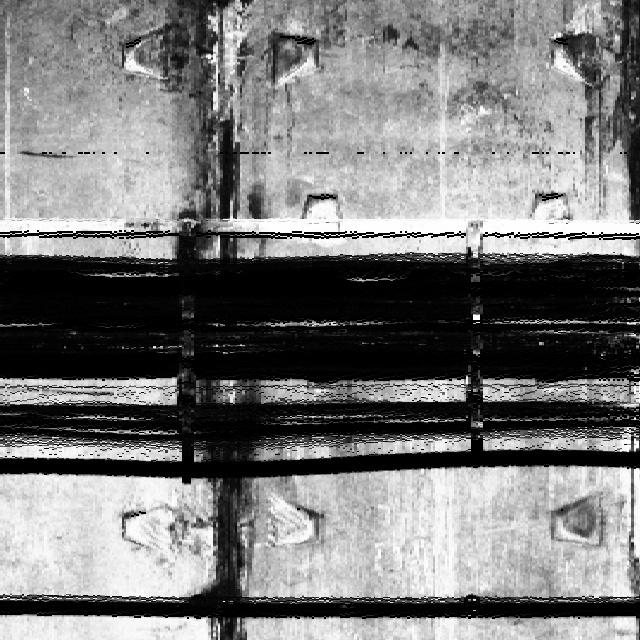leakage: (159, 3, 261, 260), (190, 379, 270, 639), (610, 0, 637, 224)
